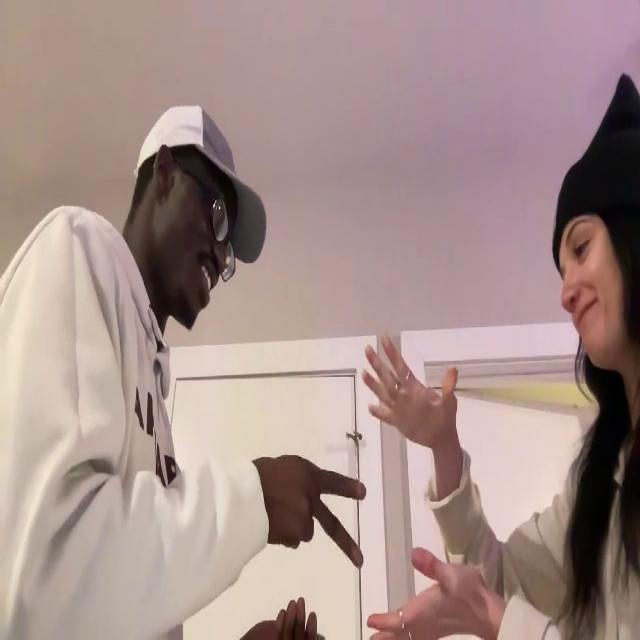Paper: (362, 335, 459, 447)
Scissors: (259, 452, 368, 566)
